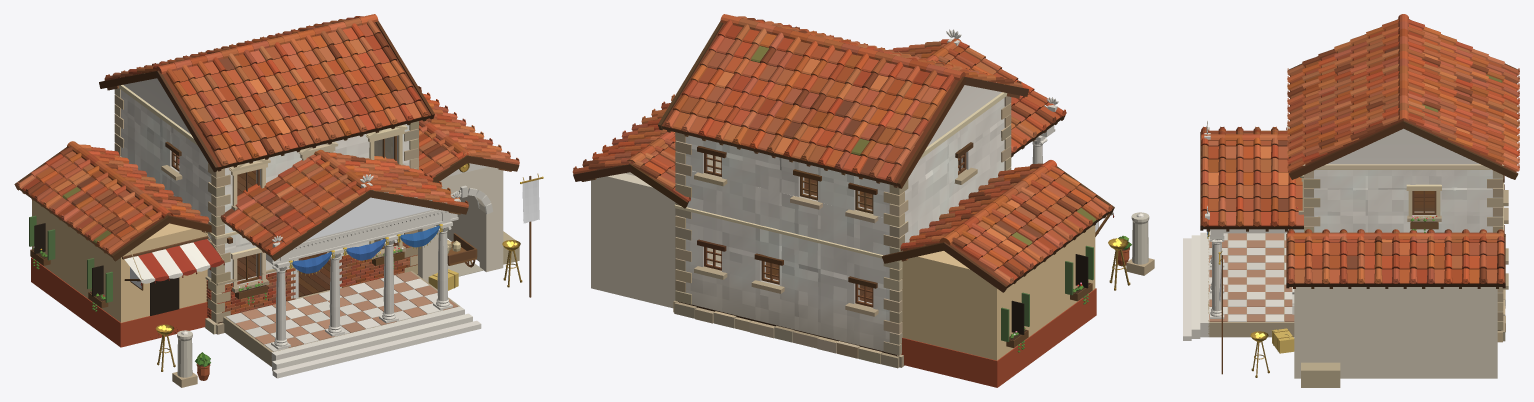
Rendered from civ_center5.glb.
3 views of the same model, side by side, from view 1: azimuth 30°, elevation 25°; view 2: azimuth 150°, elevation 25°; view 3: azimuth 270°, elevation 25° (orthographic). The views are drawn at different scales.
Parts seen in each view (by area): view 1: House, Walls, Rooms; view 2: House, Walls, Rooms; view 3: House, Walls, Rooms.
Boxes of the visible parts, bbox=[...] form: House: bbox=[14, 14, 543, 387]; Walls: bbox=[120, 78, 411, 307]; Rooms: bbox=[178, 137, 392, 297]; House: bbox=[572, 14, 1154, 387]; Walls: bbox=[679, 85, 1004, 351]; Rooms: bbox=[708, 154, 958, 302]; House: bbox=[1183, 14, 1519, 387]; Walls: bbox=[1305, 128, 1501, 311]; Rooms: bbox=[1414, 191, 1434, 211].
Bounding box in the file's own units: 10.42 × 5.74 × 7.71.
Materials: 11 (11 with a texture image).
